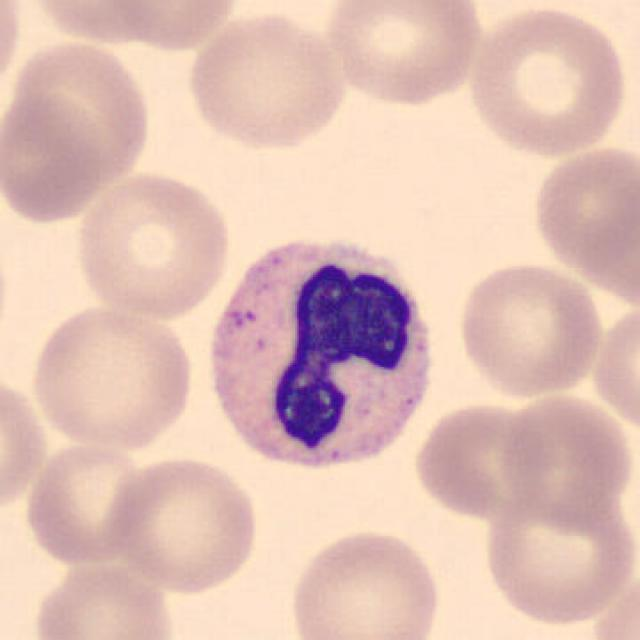Neutrophil: (199, 228, 446, 482)
RBC: (464, 2, 631, 160), (25, 302, 197, 453), (3, 37, 156, 206), (71, 168, 235, 324), (182, 5, 350, 154), (478, 482, 636, 630), (103, 453, 261, 596), (452, 258, 608, 400), (496, 390, 636, 526), (284, 523, 444, 640), (409, 398, 555, 524), (318, 0, 485, 109), (21, 439, 153, 568), (526, 139, 638, 284), (0, 88, 112, 228), (29, 557, 180, 640), (102, 0, 244, 55), (0, 368, 50, 522), (21, 0, 175, 49), (587, 296, 638, 439), (586, 567, 640, 640), (0, 0, 25, 108)
